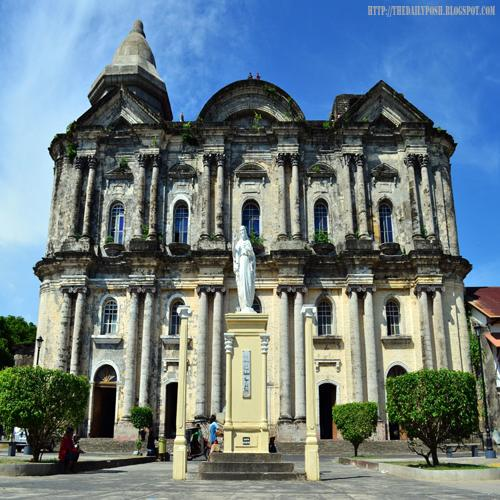Taal Basilica Church: (25, 17, 480, 454)
